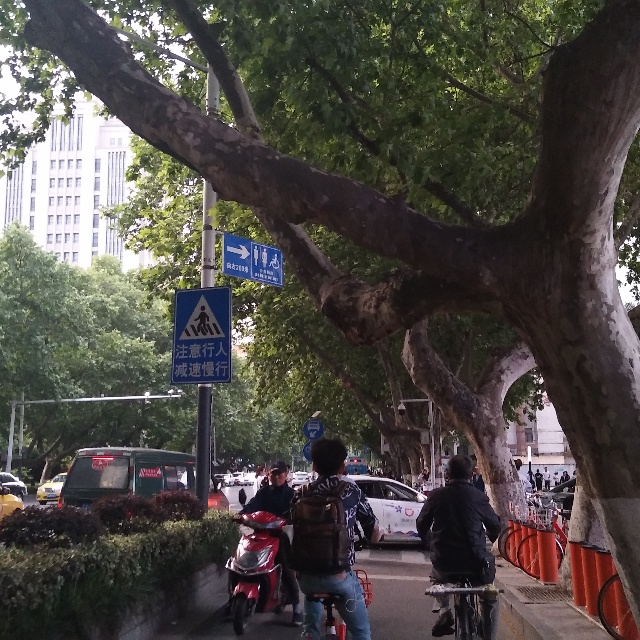crosswalk: (172, 283, 234, 385)
